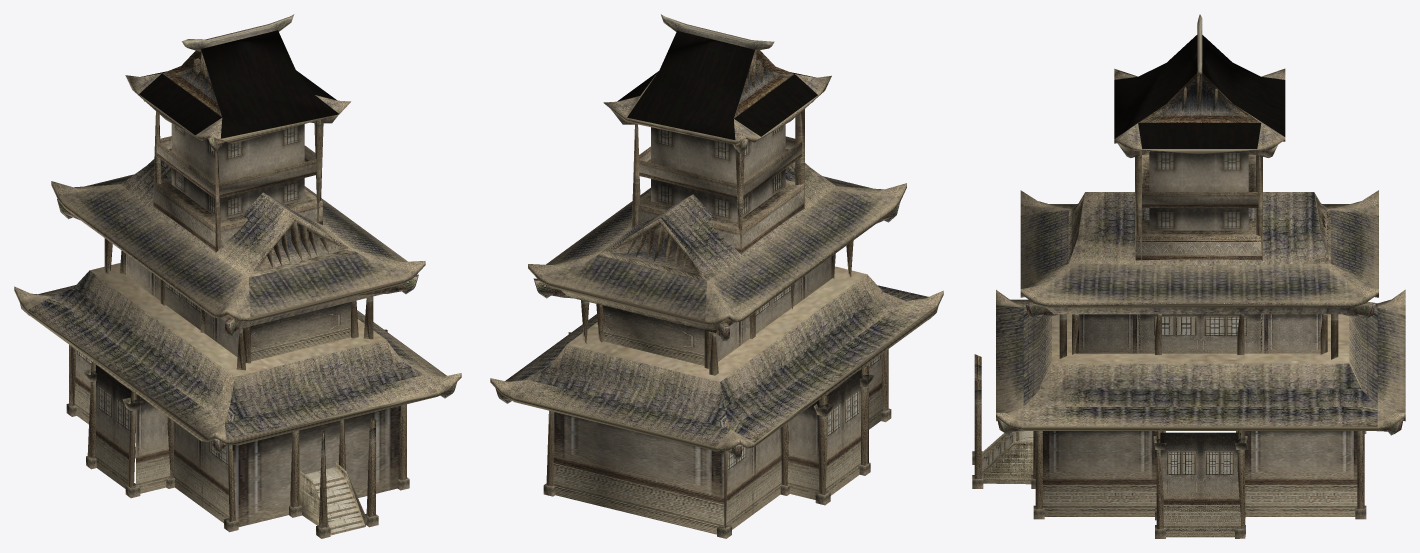
The model's file is desert-castle02_lod_01.fbx.
3 views of the same model, side by side, from view 1: azimuth 30°, elevation 25°; view 2: azimuth 150°, elevation 25°; view 3: azimuth 270°, elevation 25° (orthographic). The views are drawn at different scales.
Visible parts, largest first — view 1: desert-castle02-02, desert-castle02-01; view 2: desert-castle02-02, desert-castle02-01; view 3: desert-castle02-02, desert-castle02-01.
Boxes of the visible parts, x1,y1,x2,y2 form: desert-castle02-02: (14,159,461,526); desert-castle02-01: (66,14,409,538); desert-castle02-02: (490,162,943,534); desert-castle02-01: (543,14,891,538); desert-castle02-02: (996,190,1405,537); desert-castle02-01: (972,14,1366,538).
Size of the model in its own units: 21.37 by 32.74 by 29.7.
